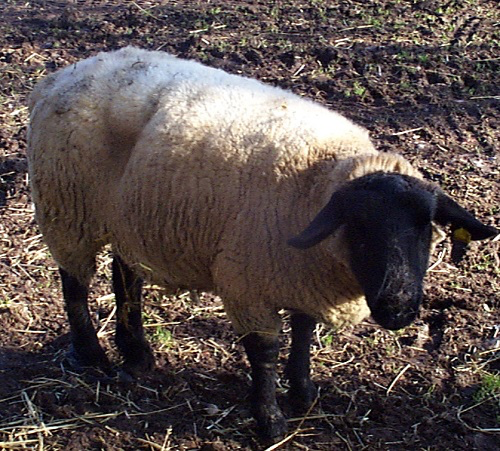koyun: (29, 46, 498, 433)
